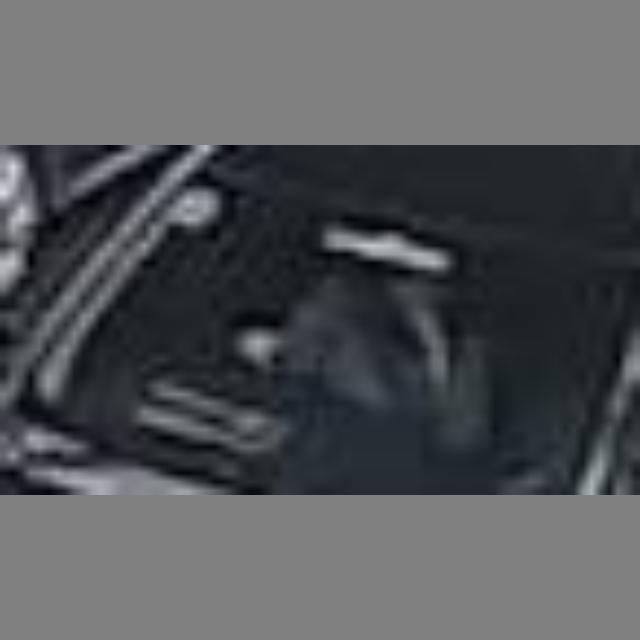pakai: (245, 224, 482, 443)
